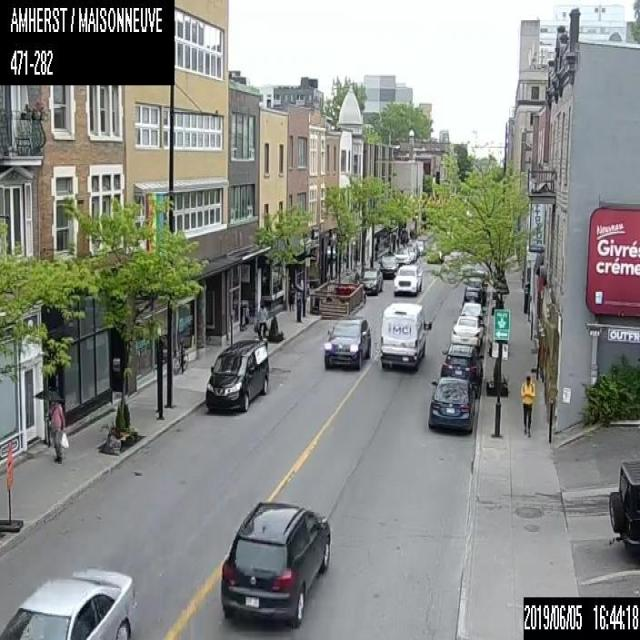pedestrian: (47, 387, 67, 462), (518, 373, 534, 439), (255, 301, 268, 339)
vehicle: (220, 500, 331, 628), (0, 564, 137, 638), (203, 338, 269, 411), (378, 300, 428, 371), (607, 459, 639, 561), (427, 376, 476, 432), (323, 316, 371, 368), (439, 344, 484, 396), (451, 315, 484, 346), (392, 264, 422, 294), (358, 269, 382, 294), (460, 302, 485, 322), (377, 255, 398, 277), (462, 285, 483, 306), (395, 247, 408, 265), (404, 246, 416, 262)
